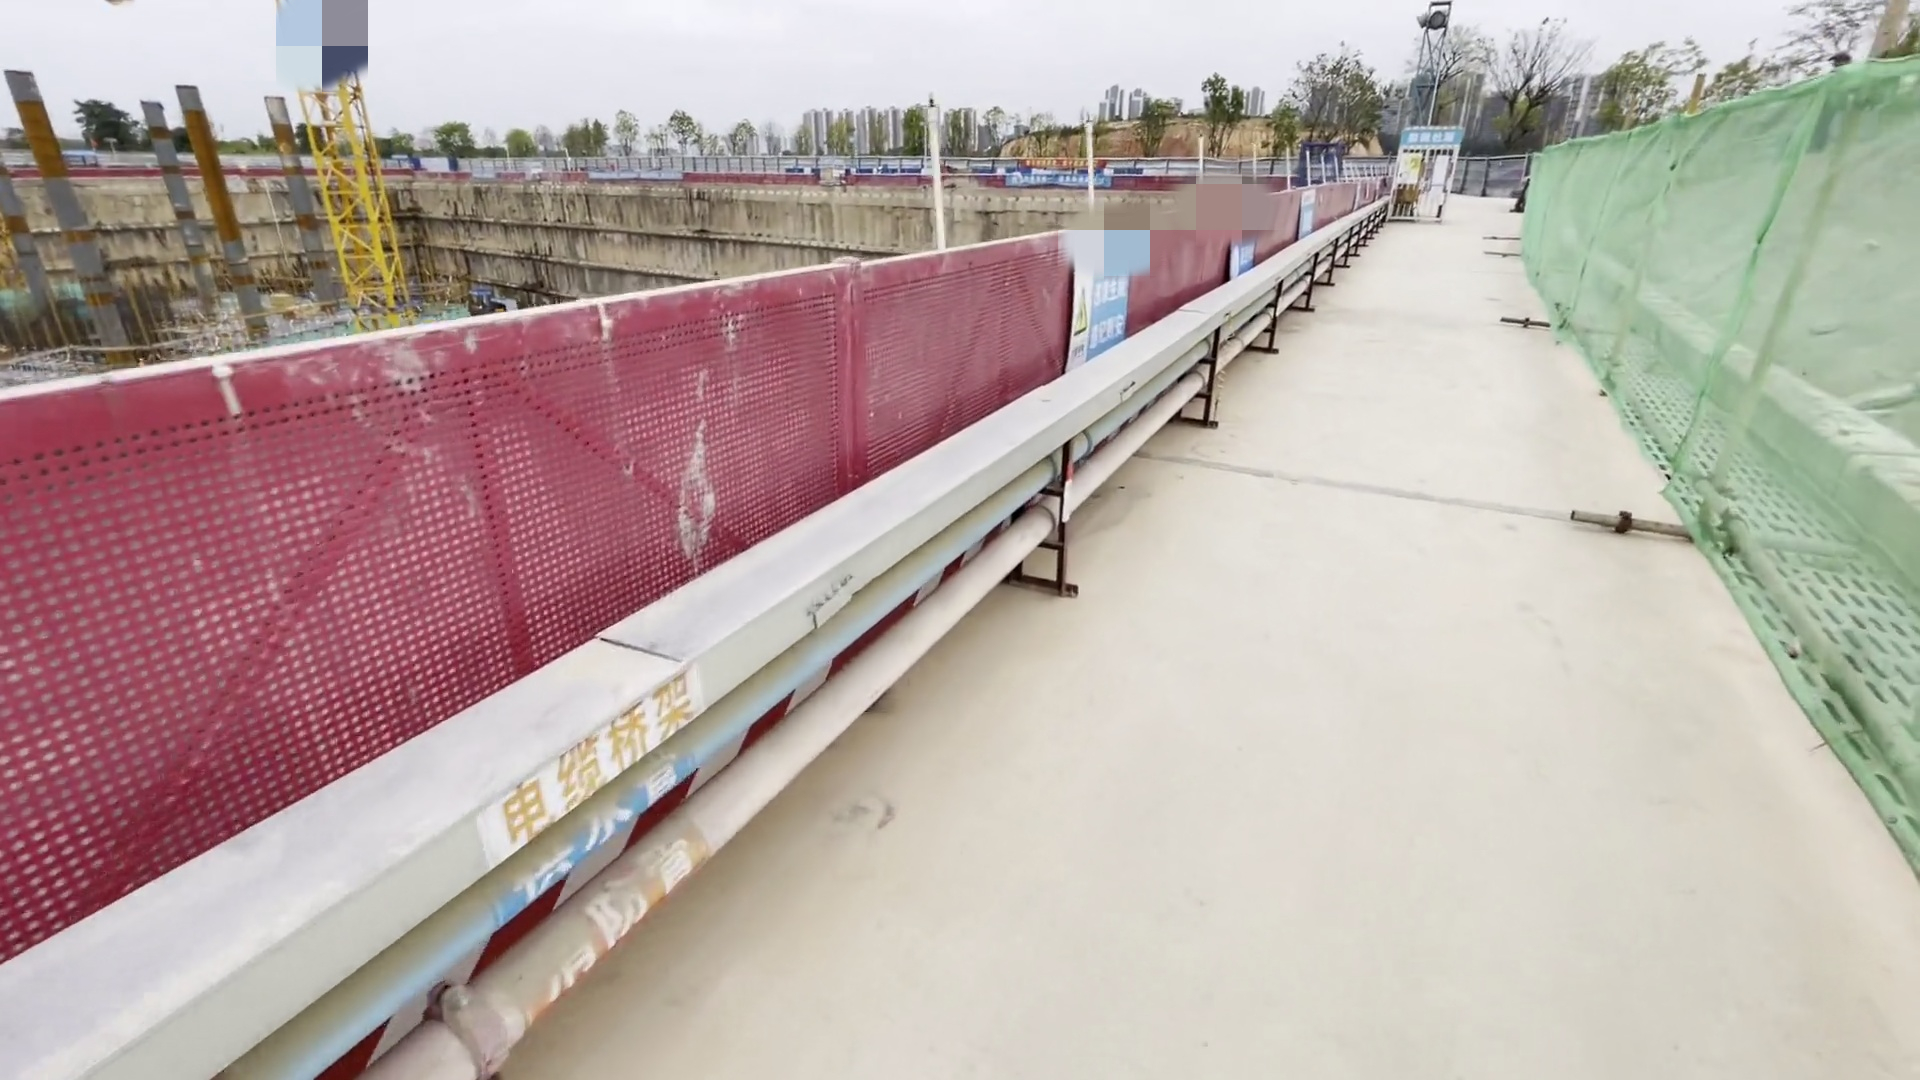fence: (1, 183, 1389, 986)
slogan: (1087, 274, 1135, 349), (1406, 117, 1466, 152)
